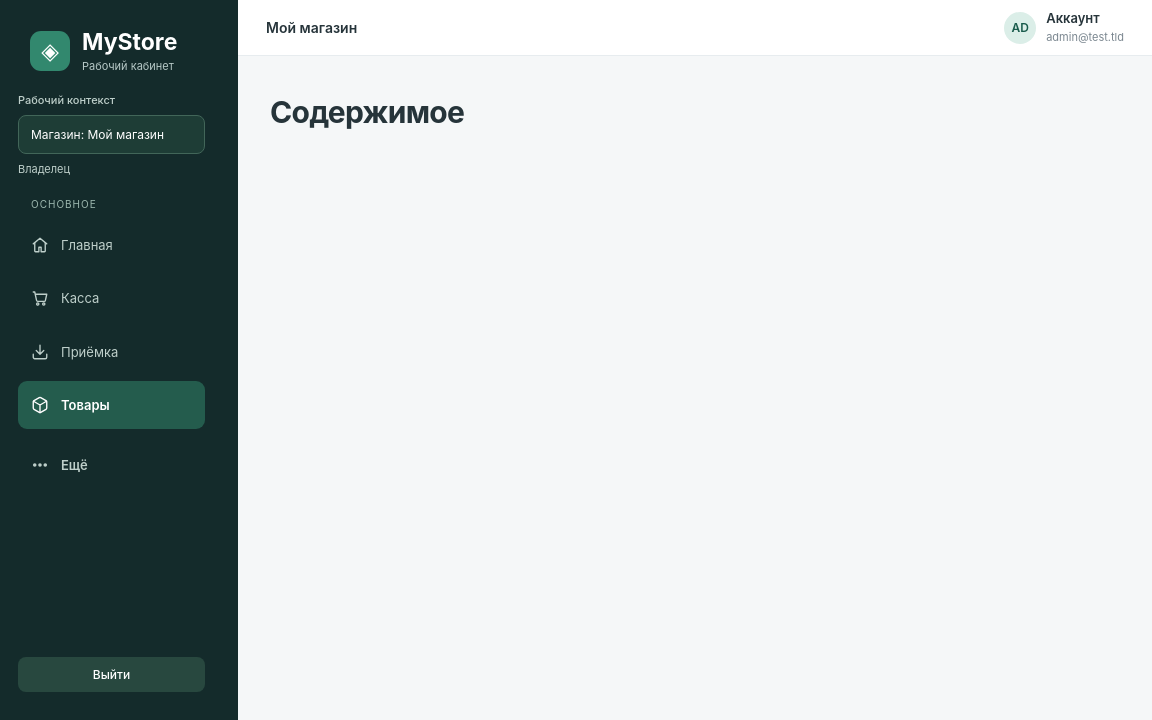
shows only granted contexts and routes into a mixed-role cashier shop correctly
Select "Магазин: Касса" in the dropdown labelled "Рабочий контекст". click: (112, 134)
box: [18,115,205,154]
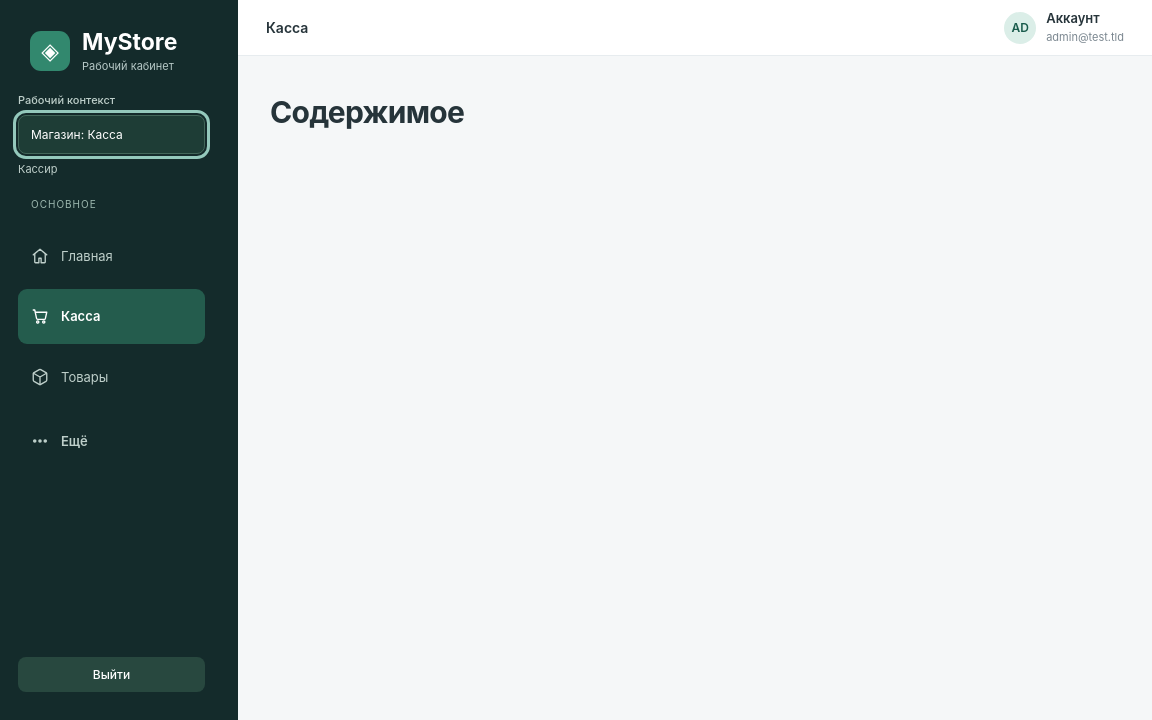
Now the text "Кассир" is shown, box [18,162,57,176]
Now the link "Касса" is shown, box [18,289,205,344]
